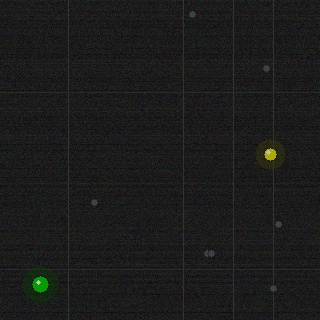green_normal: (30, 274, 50, 294)
yellow_warning: (262, 146, 278, 162)
